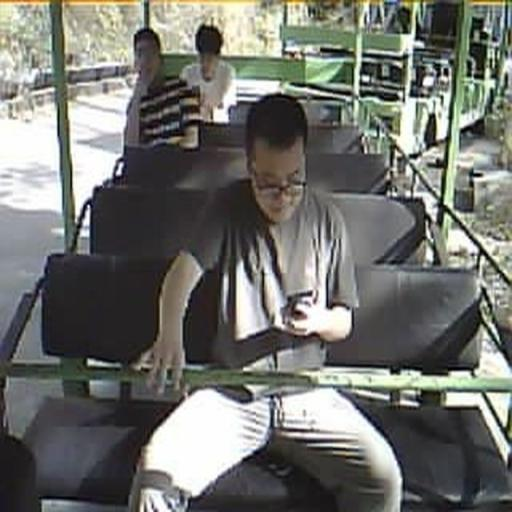persona: (128, 92, 404, 511), (121, 26, 203, 156), (179, 22, 238, 124)
